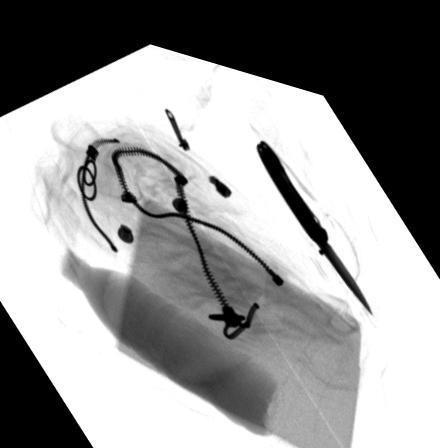Knife: (255, 123, 374, 295)
